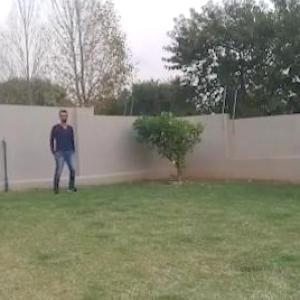follow: (54, 105, 76, 196)
